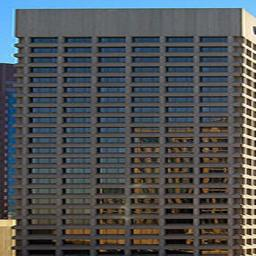building: (15, 7, 243, 256)
